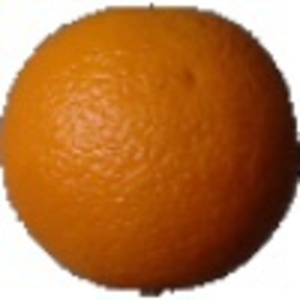laranja: (3, 2, 296, 294)
